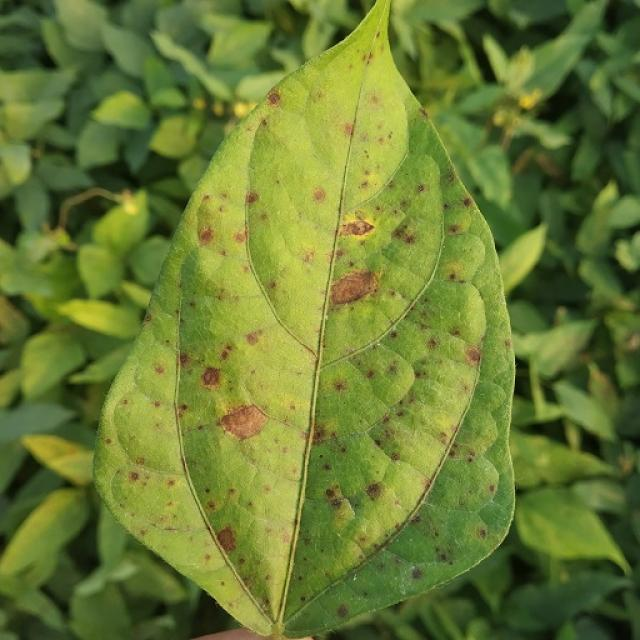Anthracnose: (217, 400, 272, 447), (328, 268, 378, 306), (216, 526, 237, 554), (393, 224, 417, 245), (344, 220, 374, 236), (265, 620, 289, 638), (201, 367, 221, 388), (365, 481, 383, 501), (245, 328, 264, 346), (325, 485, 343, 504), (310, 427, 330, 444), (465, 347, 481, 364), (199, 227, 213, 245), (300, 249, 316, 264), (219, 345, 233, 361), (266, 91, 280, 106), (333, 379, 347, 392), (313, 188, 326, 201), (246, 191, 258, 204), (427, 337, 439, 350), (411, 567, 423, 580), (337, 605, 348, 619), (369, 94, 381, 106), (234, 232, 246, 244), (342, 123, 353, 136), (462, 196, 473, 208), (439, 551, 450, 562), (364, 52, 374, 64), (477, 527, 487, 539), (129, 471, 139, 482), (154, 364, 165, 374), (417, 183, 426, 193), (167, 478, 176, 487), (136, 457, 145, 465), (488, 484, 495, 493)
Blackgram: (95, 0, 514, 636)
